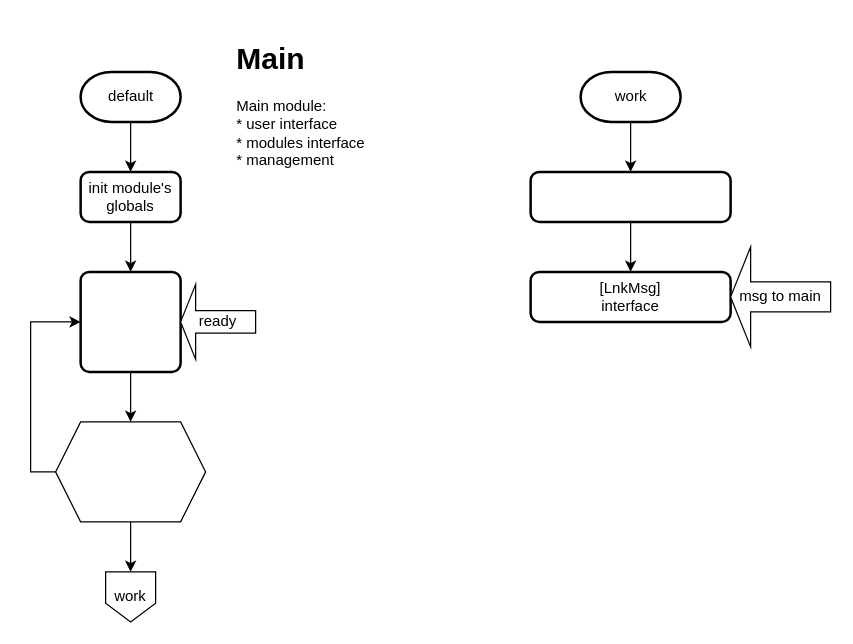
Image size: 853x644. Some labels were removed from this diagram. Here are the shapes that lost their labels. From the top down, the centre of each, then its label:
pixel 630 196: open commands listener
pixel 130 321: [LnkMsg] register modules
pixel 130 471: all modules registered?
